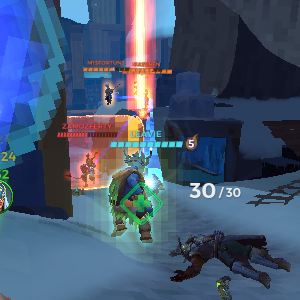model: (75, 148, 101, 193), (102, 80, 115, 109)
